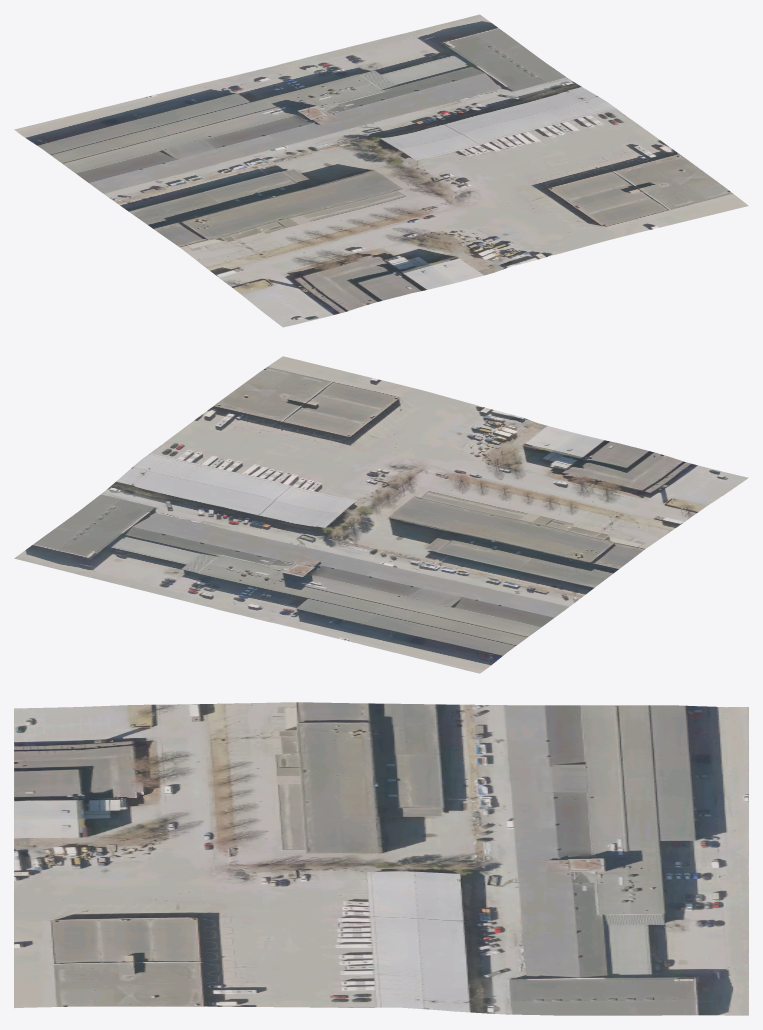
File: CM_Terrain_24488820_6818770.fbx
3 renders of one model, top to bottom at view 1: azimuth 30°, elevation 25°; view 2: azimuth 150°, elevation 25°; view 3: azimuth 270°, elevation 25°, orthographic. The views are drawn at different scales.
Visible parts, largest first — view 1: CM_Terrain_24488820_6818770_LOD0; view 2: CM_Terrain_24488820_6818770_LOD0; view 3: CM_Terrain_24488820_6818770_LOD0.
Part boxes in pixels (bbox=[...]): CM_Terrain_24488820_6818770_LOD0: bbox=[14, 14, 748, 327]; CM_Terrain_24488820_6818770_LOD0: bbox=[14, 356, 748, 673]; CM_Terrain_24488820_6818770_LOD0: bbox=[14, 702, 748, 1015].
Size of what is drawn, in the model's own units: 205 by 3.95 by 205.
